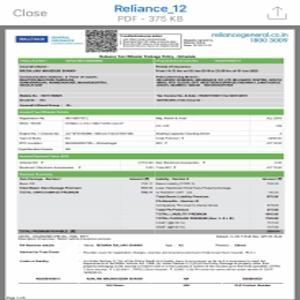image: (13, 31, 51, 45)
table: (18, 171, 285, 234), (17, 56, 282, 107), (17, 110, 283, 153), (17, 154, 283, 171)
